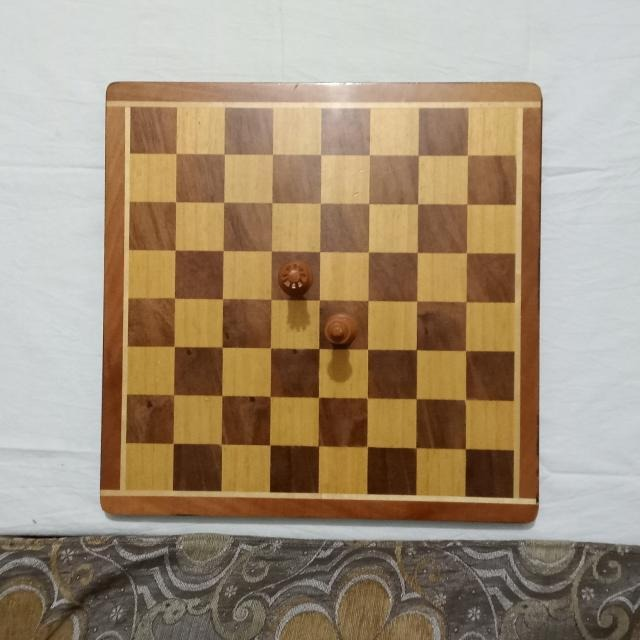white-king: (323, 309, 361, 346)
white-queen: (278, 259, 314, 297)
